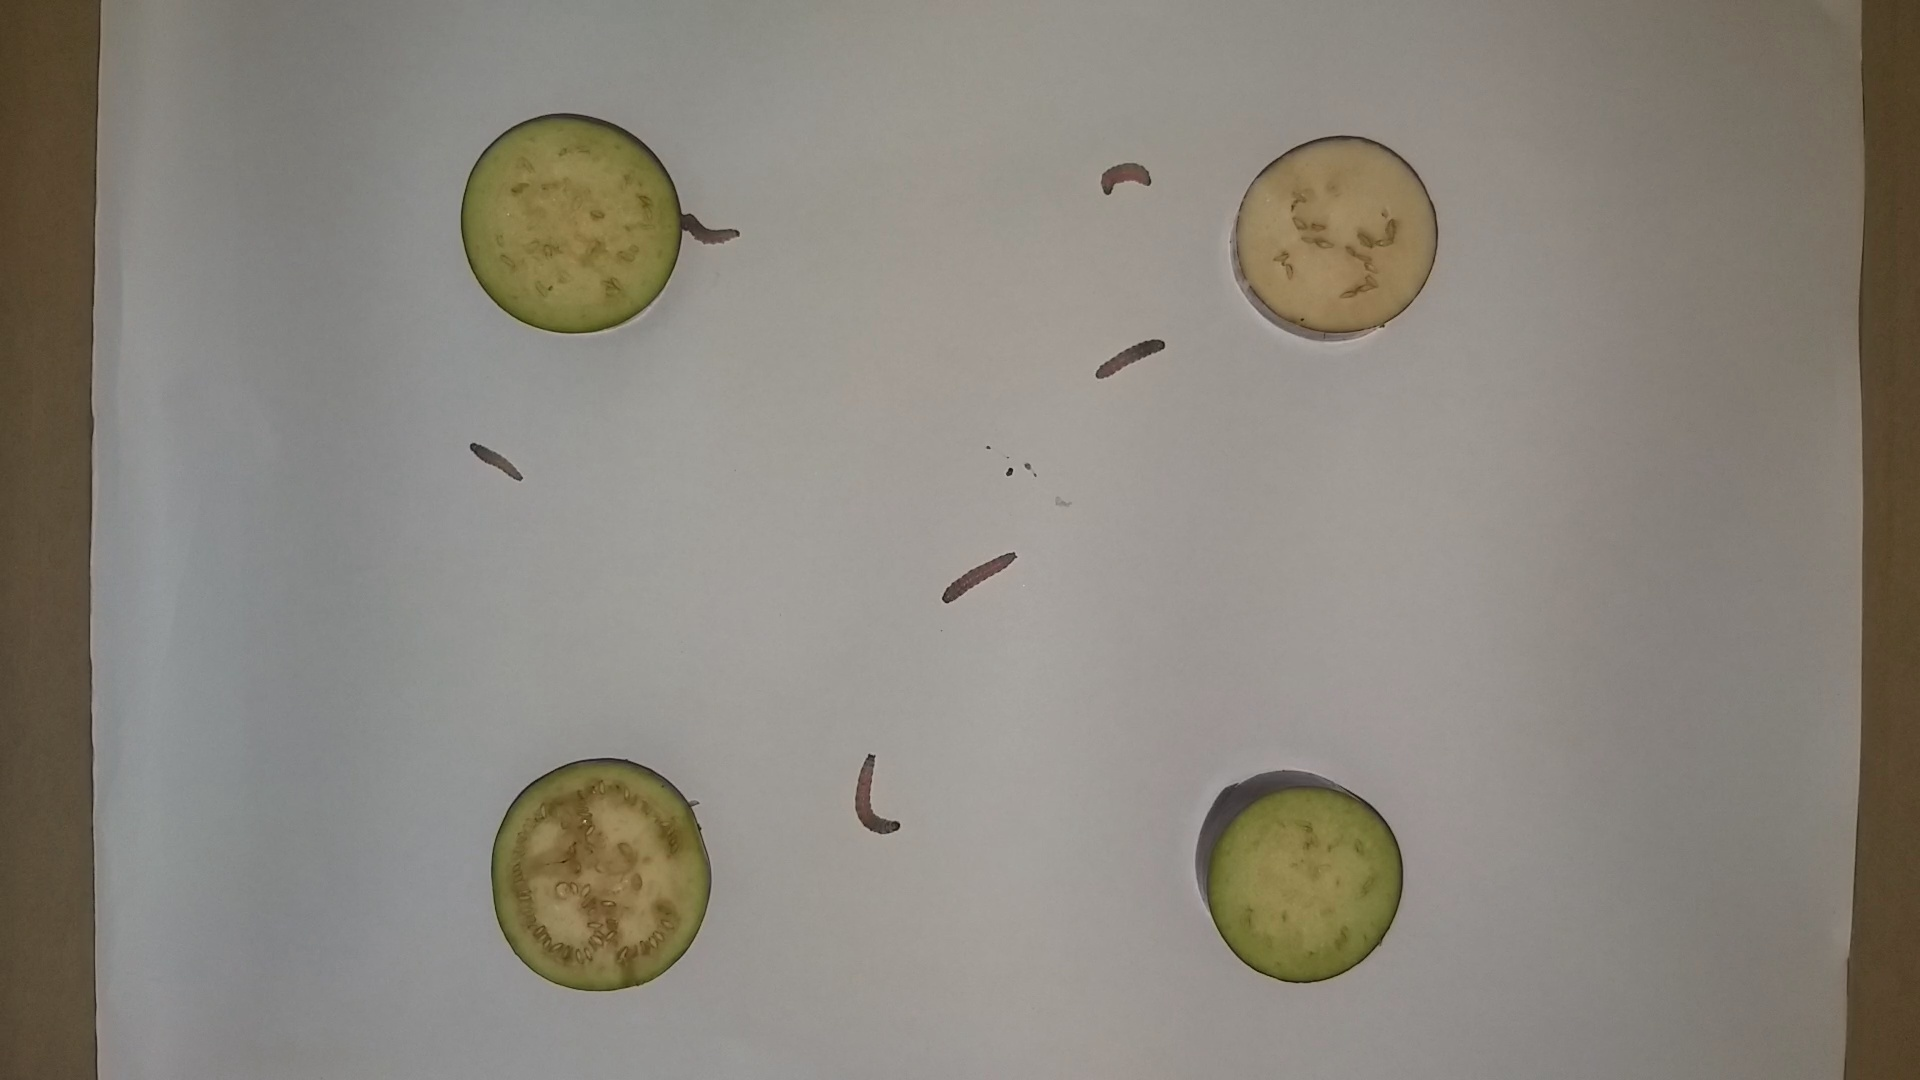efsb: (852, 750, 911, 841), (938, 549, 1021, 605), (1093, 332, 1172, 381), (673, 208, 744, 251), (463, 436, 524, 484), (1101, 160, 1158, 195)
eggplant: (487, 752, 721, 997), (454, 107, 688, 340), (1189, 766, 1408, 986), (1226, 127, 1441, 351)
